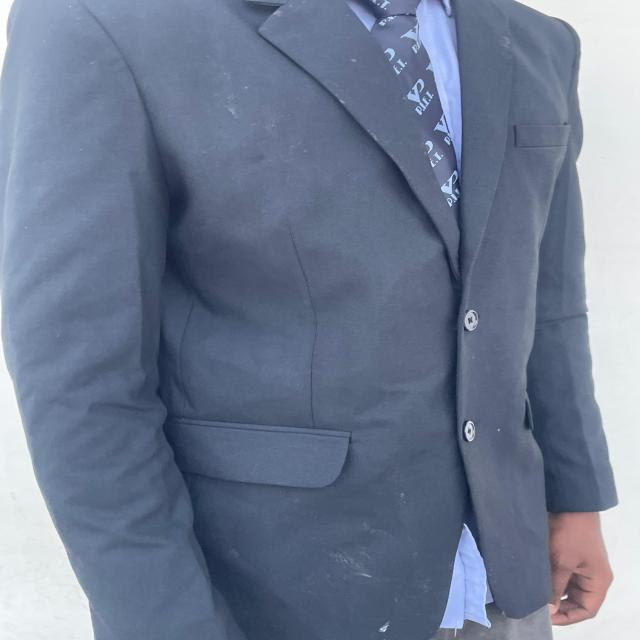Tie: (358, 0, 461, 207)
uniform: (1, 0, 618, 639)
